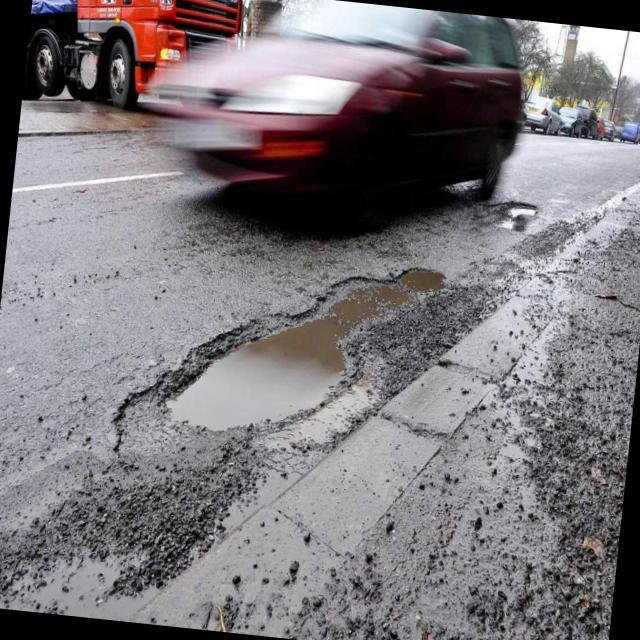Pothole: (98, 215, 488, 483), (476, 194, 554, 243)
